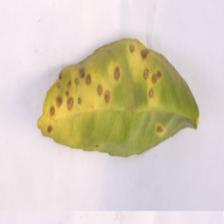canker: (28, 50, 152, 146)
